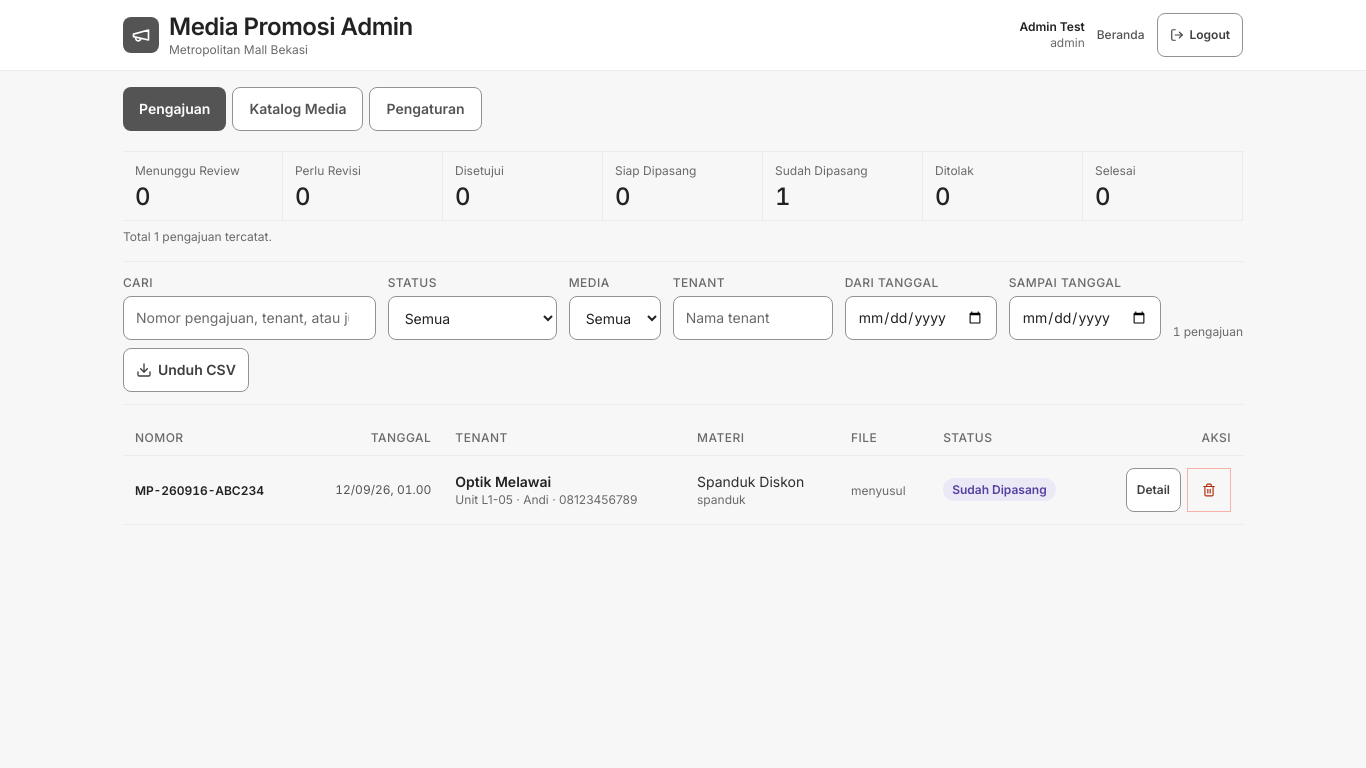
Test: AdminDashboardPage - isi deskripsi form admin › deskripsi terisi → nilainya yang ditampilkan, bukan penanda kosong
The image size is (1366, 768).
Expected: the text "Optik Melawai" is shown, left=455, top=472, right=551, bottom=490
Click the button "Detail" at coordinates (1153, 490), box left=1126, top=468, right=1181, bottom=512
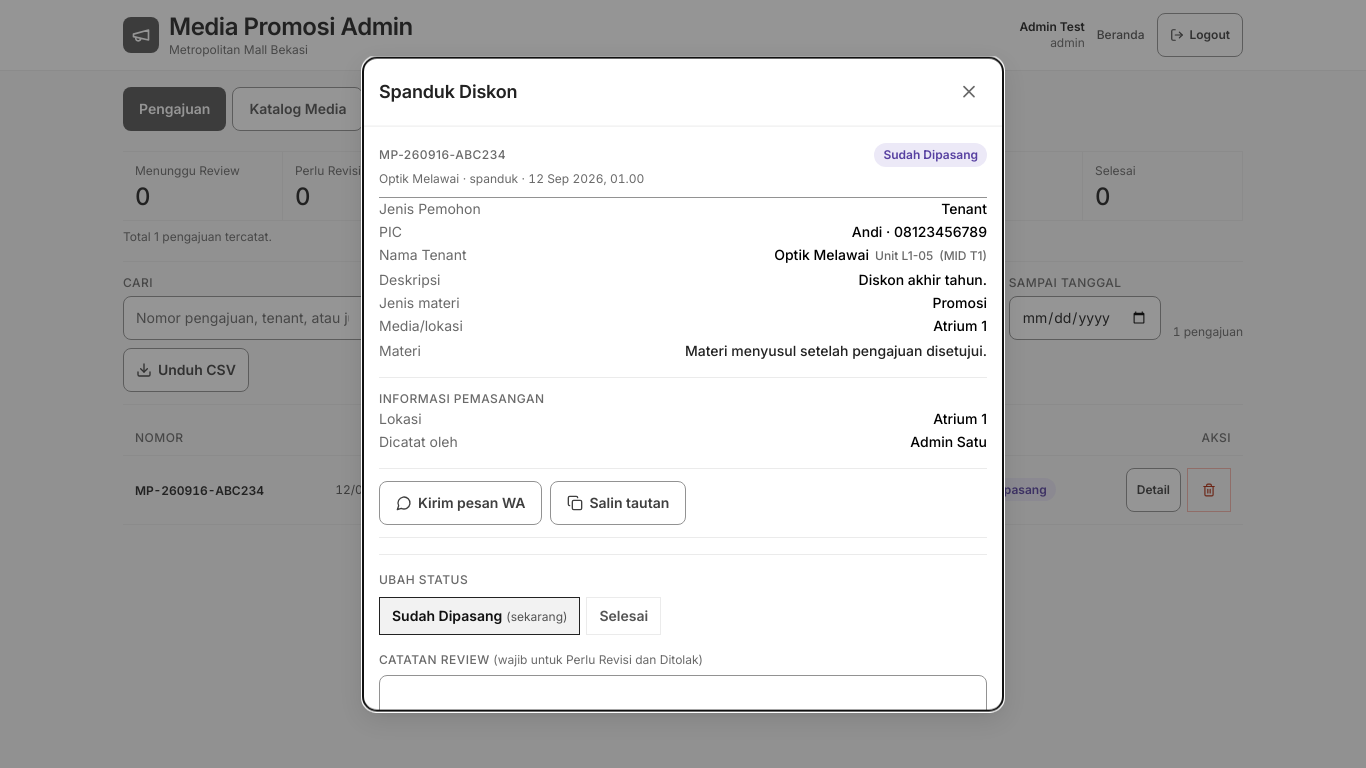
Result: the text "Informasi pemasangan" is shown at left=379, top=391, right=544, bottom=406
Result: the text "Diskon akhir tahun." is shown at left=858, top=269, right=987, bottom=290
